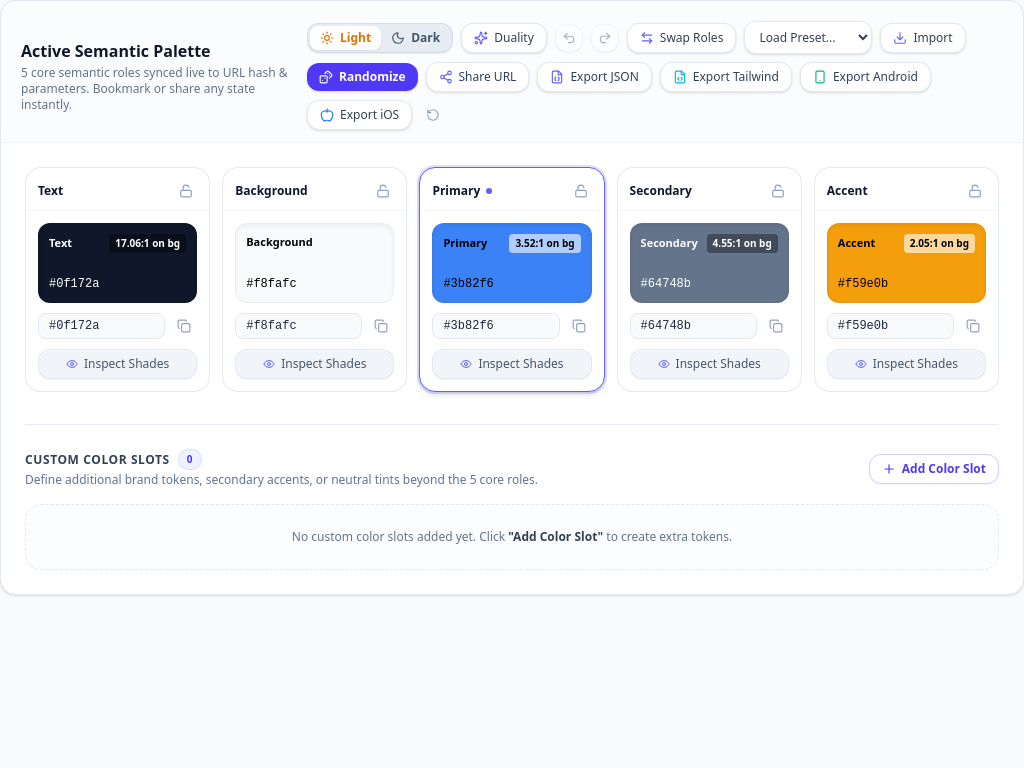
Scenario: PaletteBar (TT-008) › opens Dark Mode Duality Studio modal when clicking Duality button
Click the button with aria-label "Dark Mode Duality": (504, 38) x1=461 y1=22 x2=547 y2=52
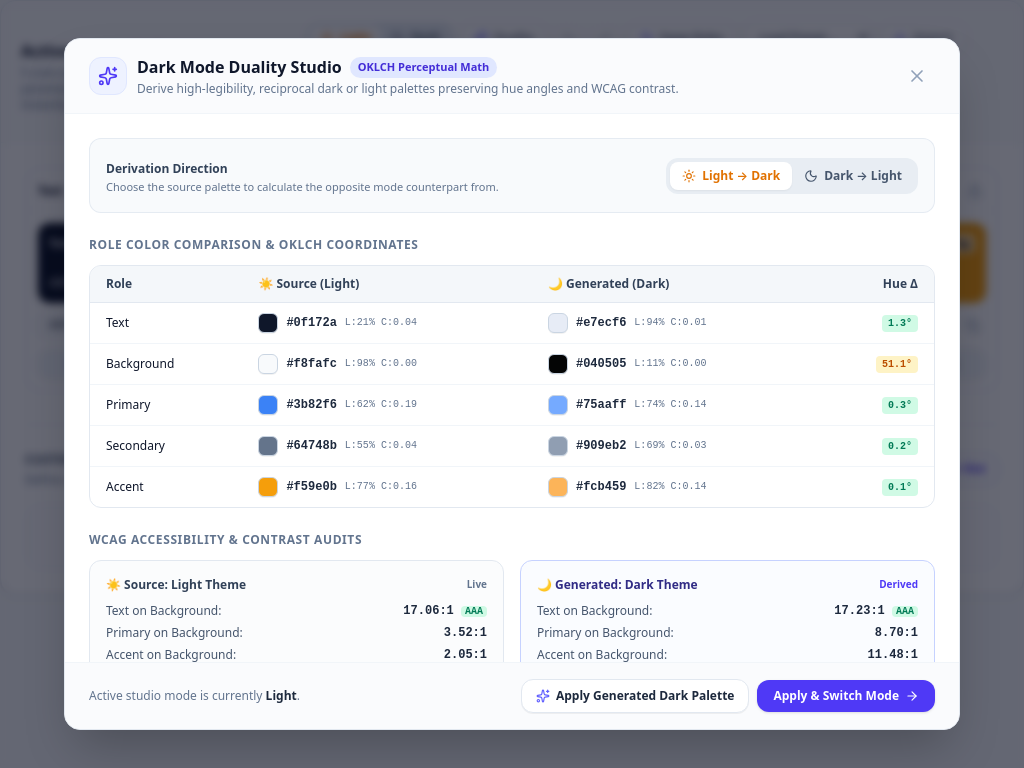
Expected: the dialog is shown
Expected: the heading "Dark Mode Duality Studio" is shown, x1=137 y1=55 x2=342 y2=79
